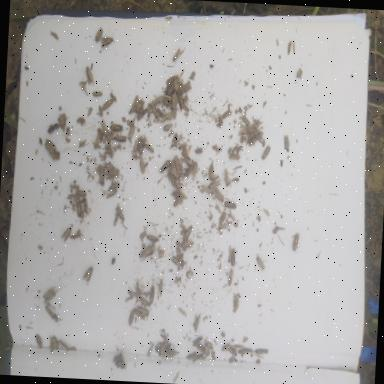pbw: (41, 288, 59, 306), (78, 64, 94, 84), (170, 45, 186, 64), (98, 31, 116, 47), (56, 337, 72, 354), (226, 264, 237, 288), (132, 304, 148, 320), (115, 204, 127, 223), (44, 304, 56, 323), (212, 187, 225, 204), (58, 226, 71, 243), (226, 246, 237, 266), (191, 311, 202, 331), (148, 100, 160, 118), (80, 266, 94, 281), (168, 257, 184, 270), (206, 160, 216, 180), (221, 168, 231, 188), (230, 294, 240, 314), (128, 98, 139, 116), (255, 254, 266, 272), (144, 232, 162, 243), (48, 336, 59, 354), (222, 198, 238, 210), (146, 286, 156, 305), (188, 353, 202, 366), (104, 180, 119, 192), (182, 226, 192, 244), (260, 144, 270, 162), (207, 178, 222, 190), (125, 288, 140, 300), (291, 233, 300, 253), (253, 346, 270, 356), (104, 188, 116, 202), (158, 160, 170, 174), (282, 134, 290, 154), (34, 334, 44, 350), (126, 310, 134, 330), (146, 342, 156, 358), (100, 99, 112, 112), (172, 195, 184, 208), (151, 94, 164, 106), (74, 200, 82, 219), (100, 119, 108, 138), (80, 198, 88, 217), (173, 155, 181, 173), (176, 92, 184, 110), (74, 188, 87, 199), (183, 164, 193, 178), (217, 213, 225, 230), (171, 91, 179, 108), (227, 346, 238, 358), (126, 124, 134, 140), (132, 138, 140, 154), (94, 26, 102, 42), (138, 156, 145, 174), (191, 160, 198, 178), (179, 143, 188, 157), (109, 123, 123, 132), (220, 108, 230, 120), (201, 186, 213, 196), (112, 134, 127, 142), (136, 108, 146, 120), (220, 342, 230, 354), (142, 144, 154, 154), (240, 113, 249, 126), (167, 174, 175, 188), (169, 164, 177, 178), (173, 186, 184, 196), (166, 74, 176, 85), (172, 74, 178, 92), (134, 100, 142, 113), (162, 122, 172, 132), (166, 110, 176, 120), (171, 133, 178, 147), (138, 140, 144, 156), (192, 338, 200, 350), (162, 340, 166, 364), (182, 159, 192, 168), (97, 104, 103, 118), (160, 113, 168, 123), (145, 103, 150, 118), (228, 154, 240, 160), (91, 90, 101, 97), (238, 122, 246, 130), (194, 146, 202, 154), (163, 94, 172, 101), (110, 92, 116, 101)
